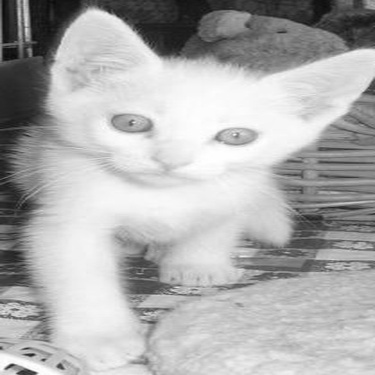cat: (9, 5, 374, 369)
